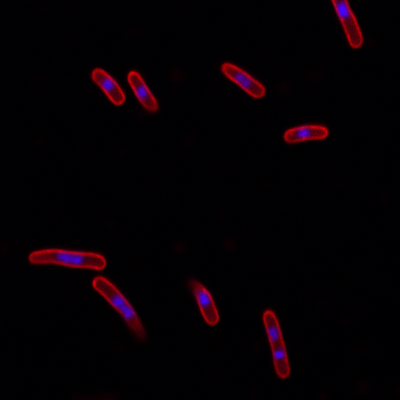Nalidixate: (263, 309, 291, 380), (28, 248, 107, 271), (221, 61, 266, 101), (331, 1, 364, 50), (90, 67, 125, 106), (282, 124, 329, 144)
Oblique: (93, 276, 145, 337), (188, 278, 220, 327), (128, 70, 157, 112)
